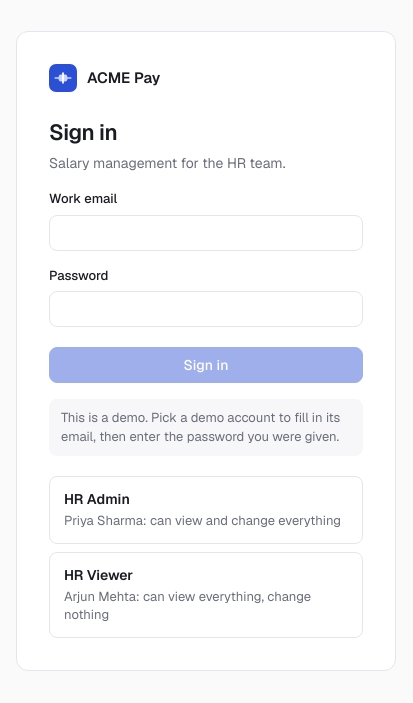
Scenario: Sign in › shows other errors as the server explains them
Type "priya.sharma@acme.example" into the field labelled "Work email" at {"x": 206, "y": 233}, box top-left (49, 215), bottom-right (363, 251)
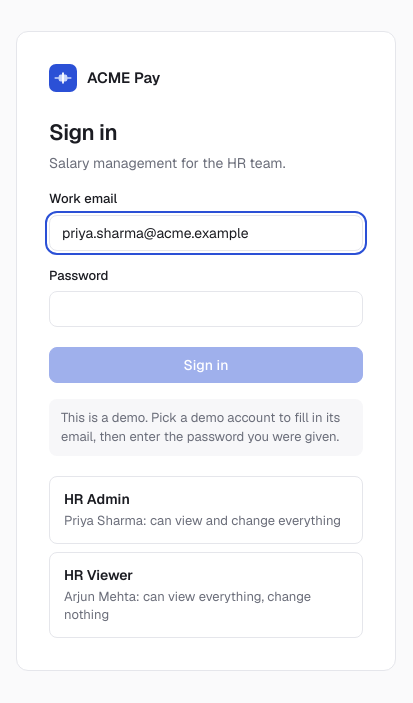
Type "x" into the password field labelled "Password" at {"x": 206, "y": 309}, box top-left (49, 291), bottom-right (363, 327)
Then press Enter
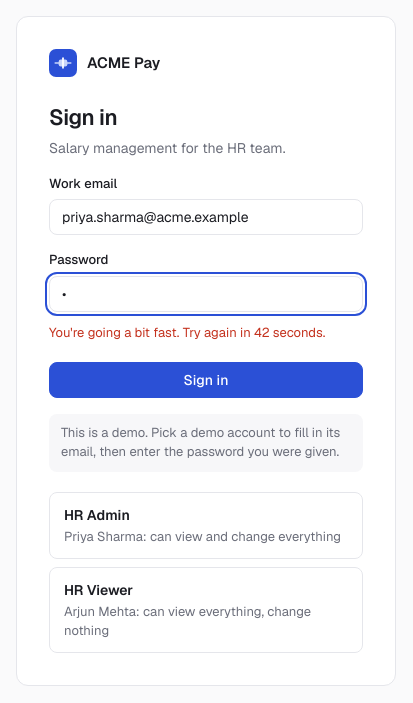
Check: the message shows "Try again in 42 seconds.", box top-left (49, 324), bottom-right (325, 341)
